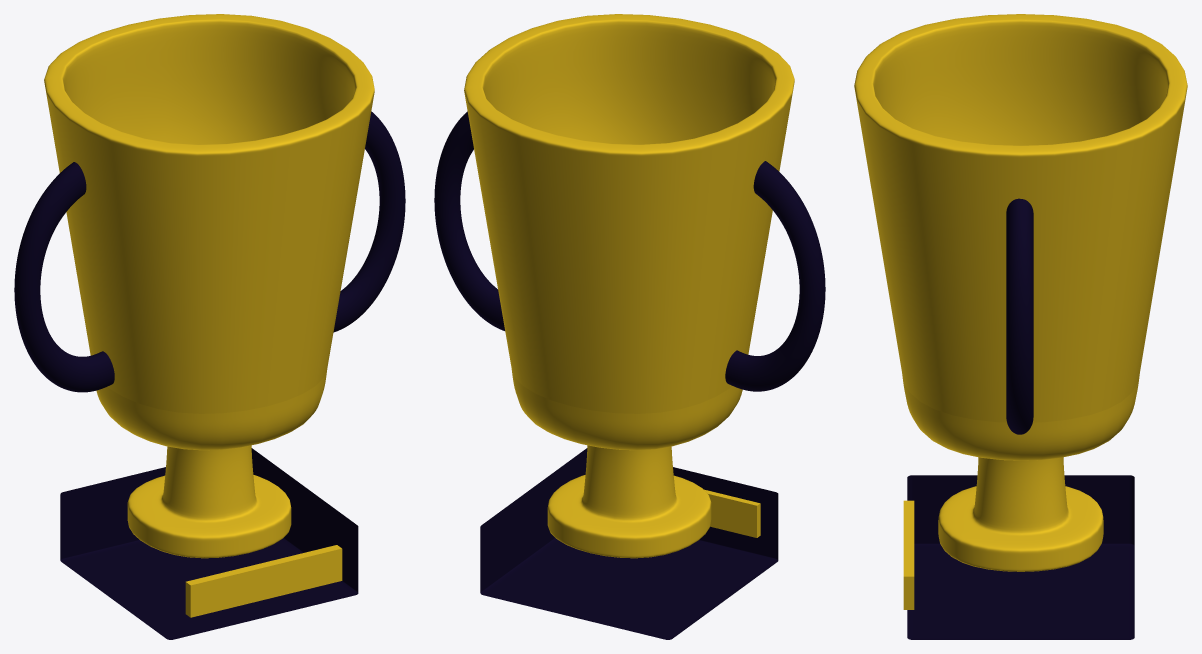
File: Trophy.fbx
The picture shows the model from 3 angles, left to right: view 1: azimuth 30°, elevation 25°; view 2: azimuth 150°, elevation 25°; view 3: azimuth 270°, elevation 25°; orthographic projection. The views are drawn at different scales.
Visible parts, largest first — view 1: Plaque; view 2: Plaque; view 3: Plaque.
Boxes of the visible parts, x1,y1,x2,y2 form: Plaque: (14,14,405,639); Plaque: (434,14,825,639); Plaque: (854,14,1187,639).
Size of the model in its own units: 370 by 512 by 625.
